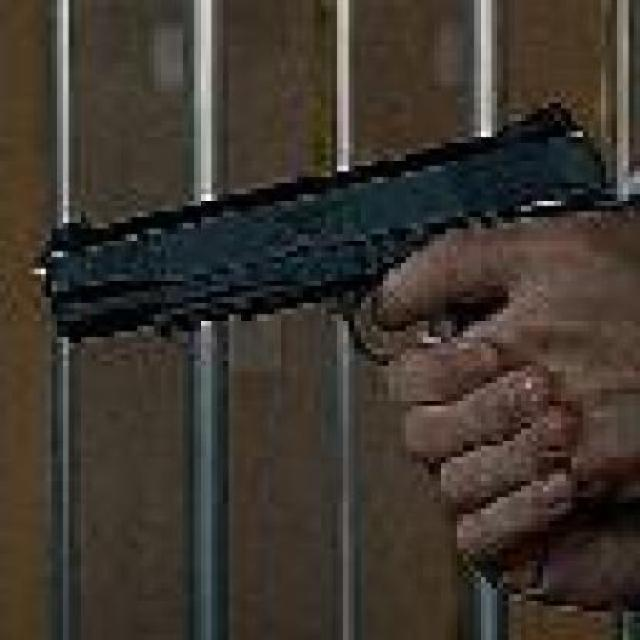rifle: (17, 95, 640, 352)
